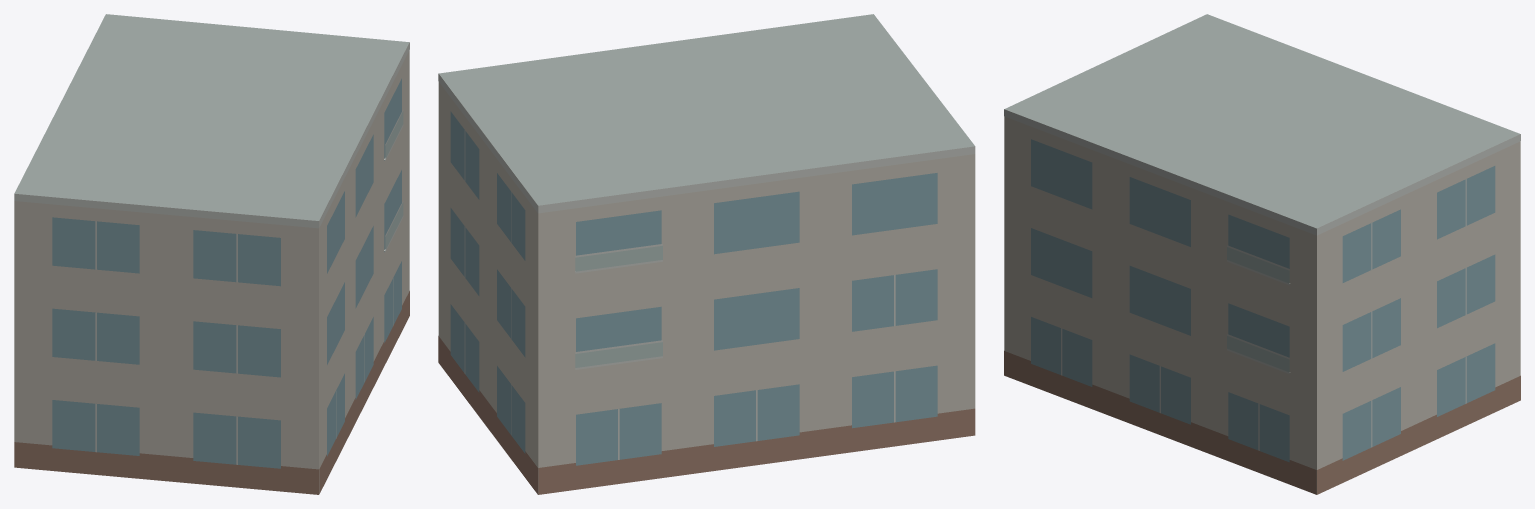
The model's file is survey-upis-32698041.glb.
The picture shows the model from 3 angles, left to right: view 1: azimuth 30°, elevation 25°; view 2: azimuth 150°, elevation 25°; view 3: azimuth 270°, elevation 25°; orthographic projection. The views are drawn at different scales.
Visible parts, largest first — view 1: survey-upis-32698041.tmp; view 2: survey-upis-32698041.tmp; view 3: survey-upis-32698041.tmp.
Boxes of the visible parts, <box> form: survey-upis-32698041.tmp: <box>14,14,409,494</box>; survey-upis-32698041.tmp: <box>438,14,975,494</box>; survey-upis-32698041.tmp: <box>1004,14,1520,494</box>.
Size of the model in its own units: 15.81 by 9.15 by 16.09.
